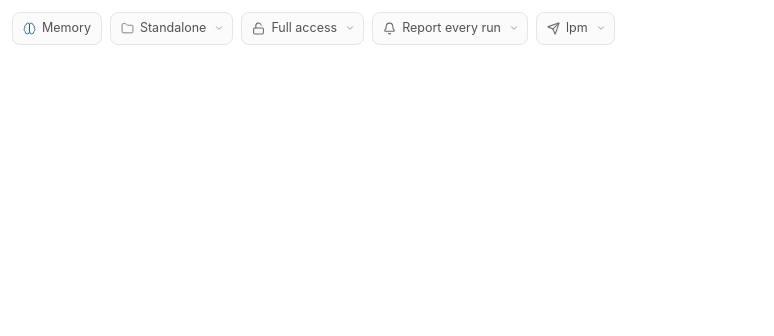
Test: JobScopeRow › picks projects and then what each run works on
The image size is (774, 336).
Click the button "Standalone" at [172, 28], box x1=110 y1=12 x2=234 y2=45
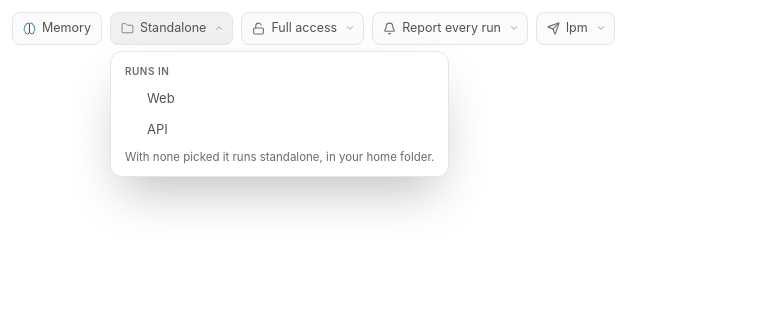
Click the button "Web" at [161, 98], box x1=115 y1=83 x2=444 y2=114
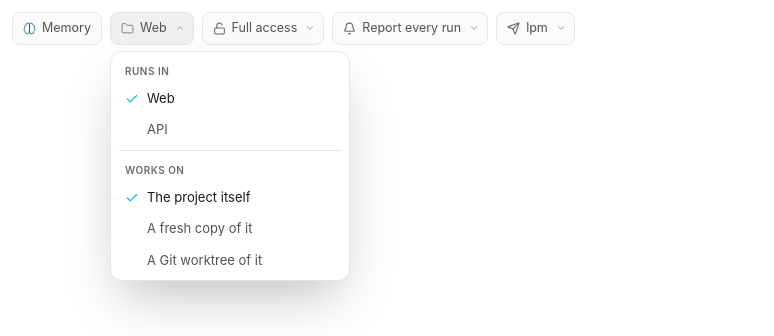
Now the 1st button "Web" is shown, box x1=110 y1=12 x2=194 y2=45
Click the button "A fresh copy of it" at [230, 229], box x1=115 y1=213 x2=345 y2=245
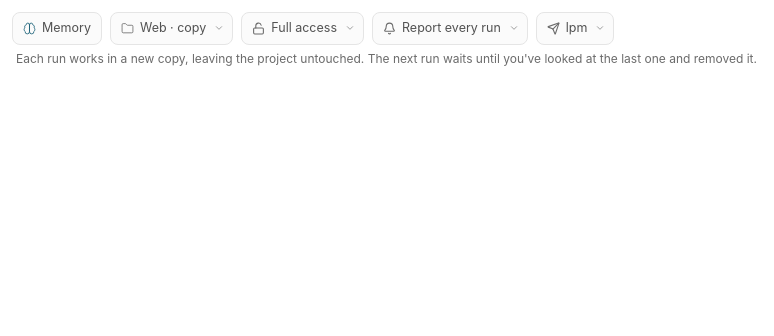
Now the button "Web · copy" is shown, box x1=110 y1=12 x2=233 y2=45
Now the text "Each run works in a new copy" is shown, box x1=16 y1=51 x2=757 y2=66
